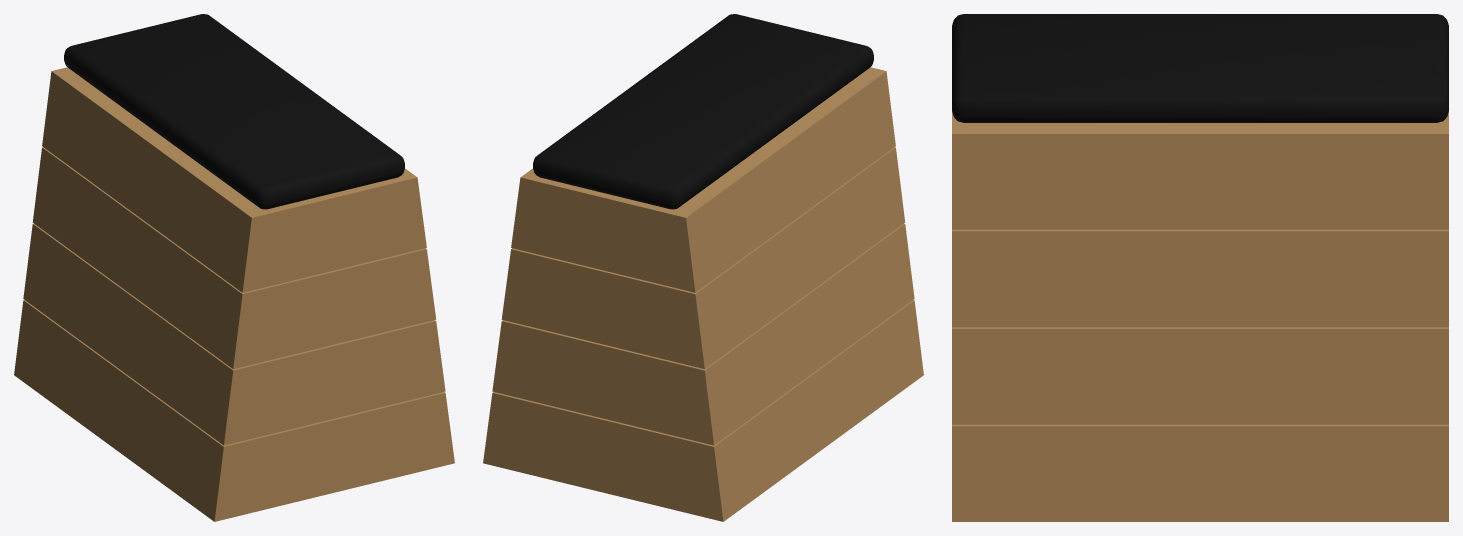
File: school.gym.vault_box.glb
3 views of the same model, side by side, from view 1: azimuth 30°, elevation 25°; view 2: azimuth 150°, elevation 25°; view 3: azimuth 270°, elevation 25° (orthographic). The views are drawn at different scales.
Visible parts, largest first — view 1: main__softwood, main__leather_black; view 2: main__softwood, main__leather_black; view 3: main__softwood, main__leather_black.
Boxes of the visible parts, bbox=[...] form: main__softwood: bbox=[14, 67, 454, 521]; main__leather_black: bbox=[64, 14, 404, 209]; main__softwood: bbox=[483, 67, 923, 521]; main__leather_black: bbox=[533, 14, 873, 209]; main__softwood: bbox=[952, 111, 1448, 521]; main__leather_black: bbox=[952, 14, 1448, 122].
Size of the model in its own units: 0.9 by 1.14 by 1.3.
